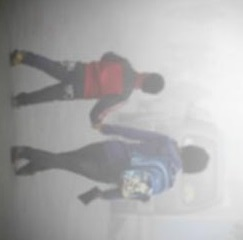person: (9, 122, 213, 206), (9, 48, 165, 126)
